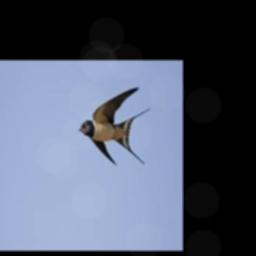Swallow: (78, 86, 152, 165)
